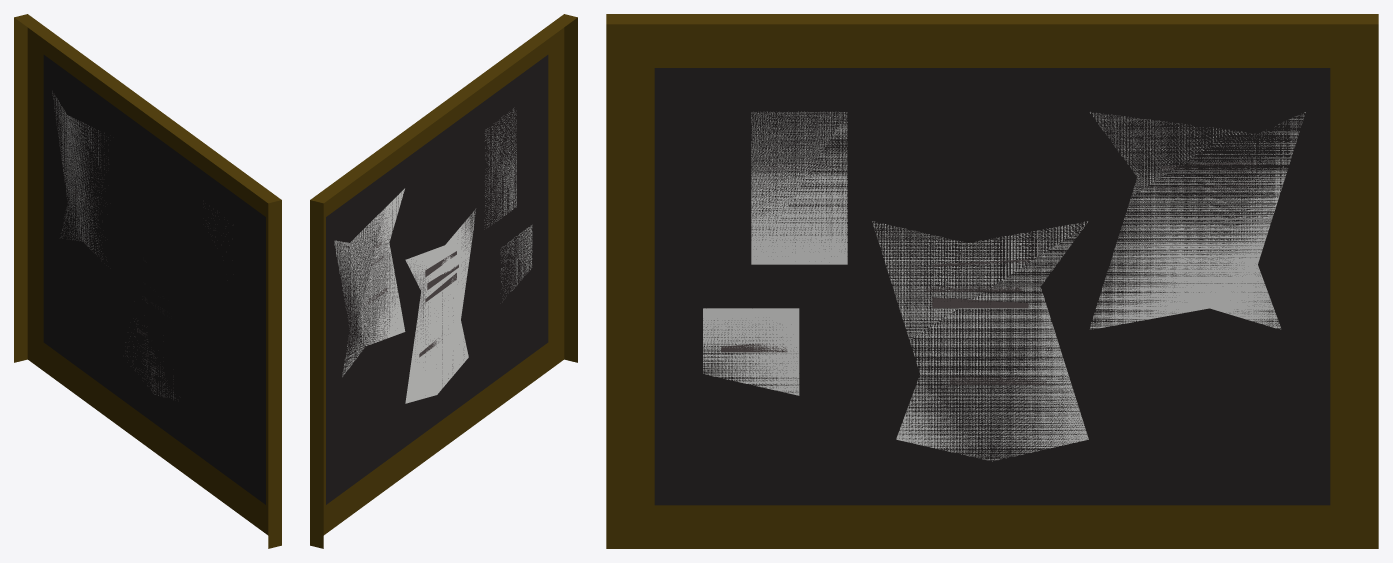
File: obj_noticeboard_0.obj
3 renders of one model, left to right at view 1: azimuth 30°, elevation 25°; view 2: azimuth 150°, elevation 25°; view 3: azimuth 270°, elevation 25°, orthographic. The views are drawn at different scales.
Bounding box in the file's own units: 0.0312 × 0.75 × 1.
